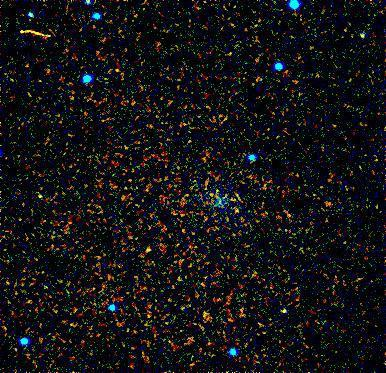star: (271, 299, 301, 329)
